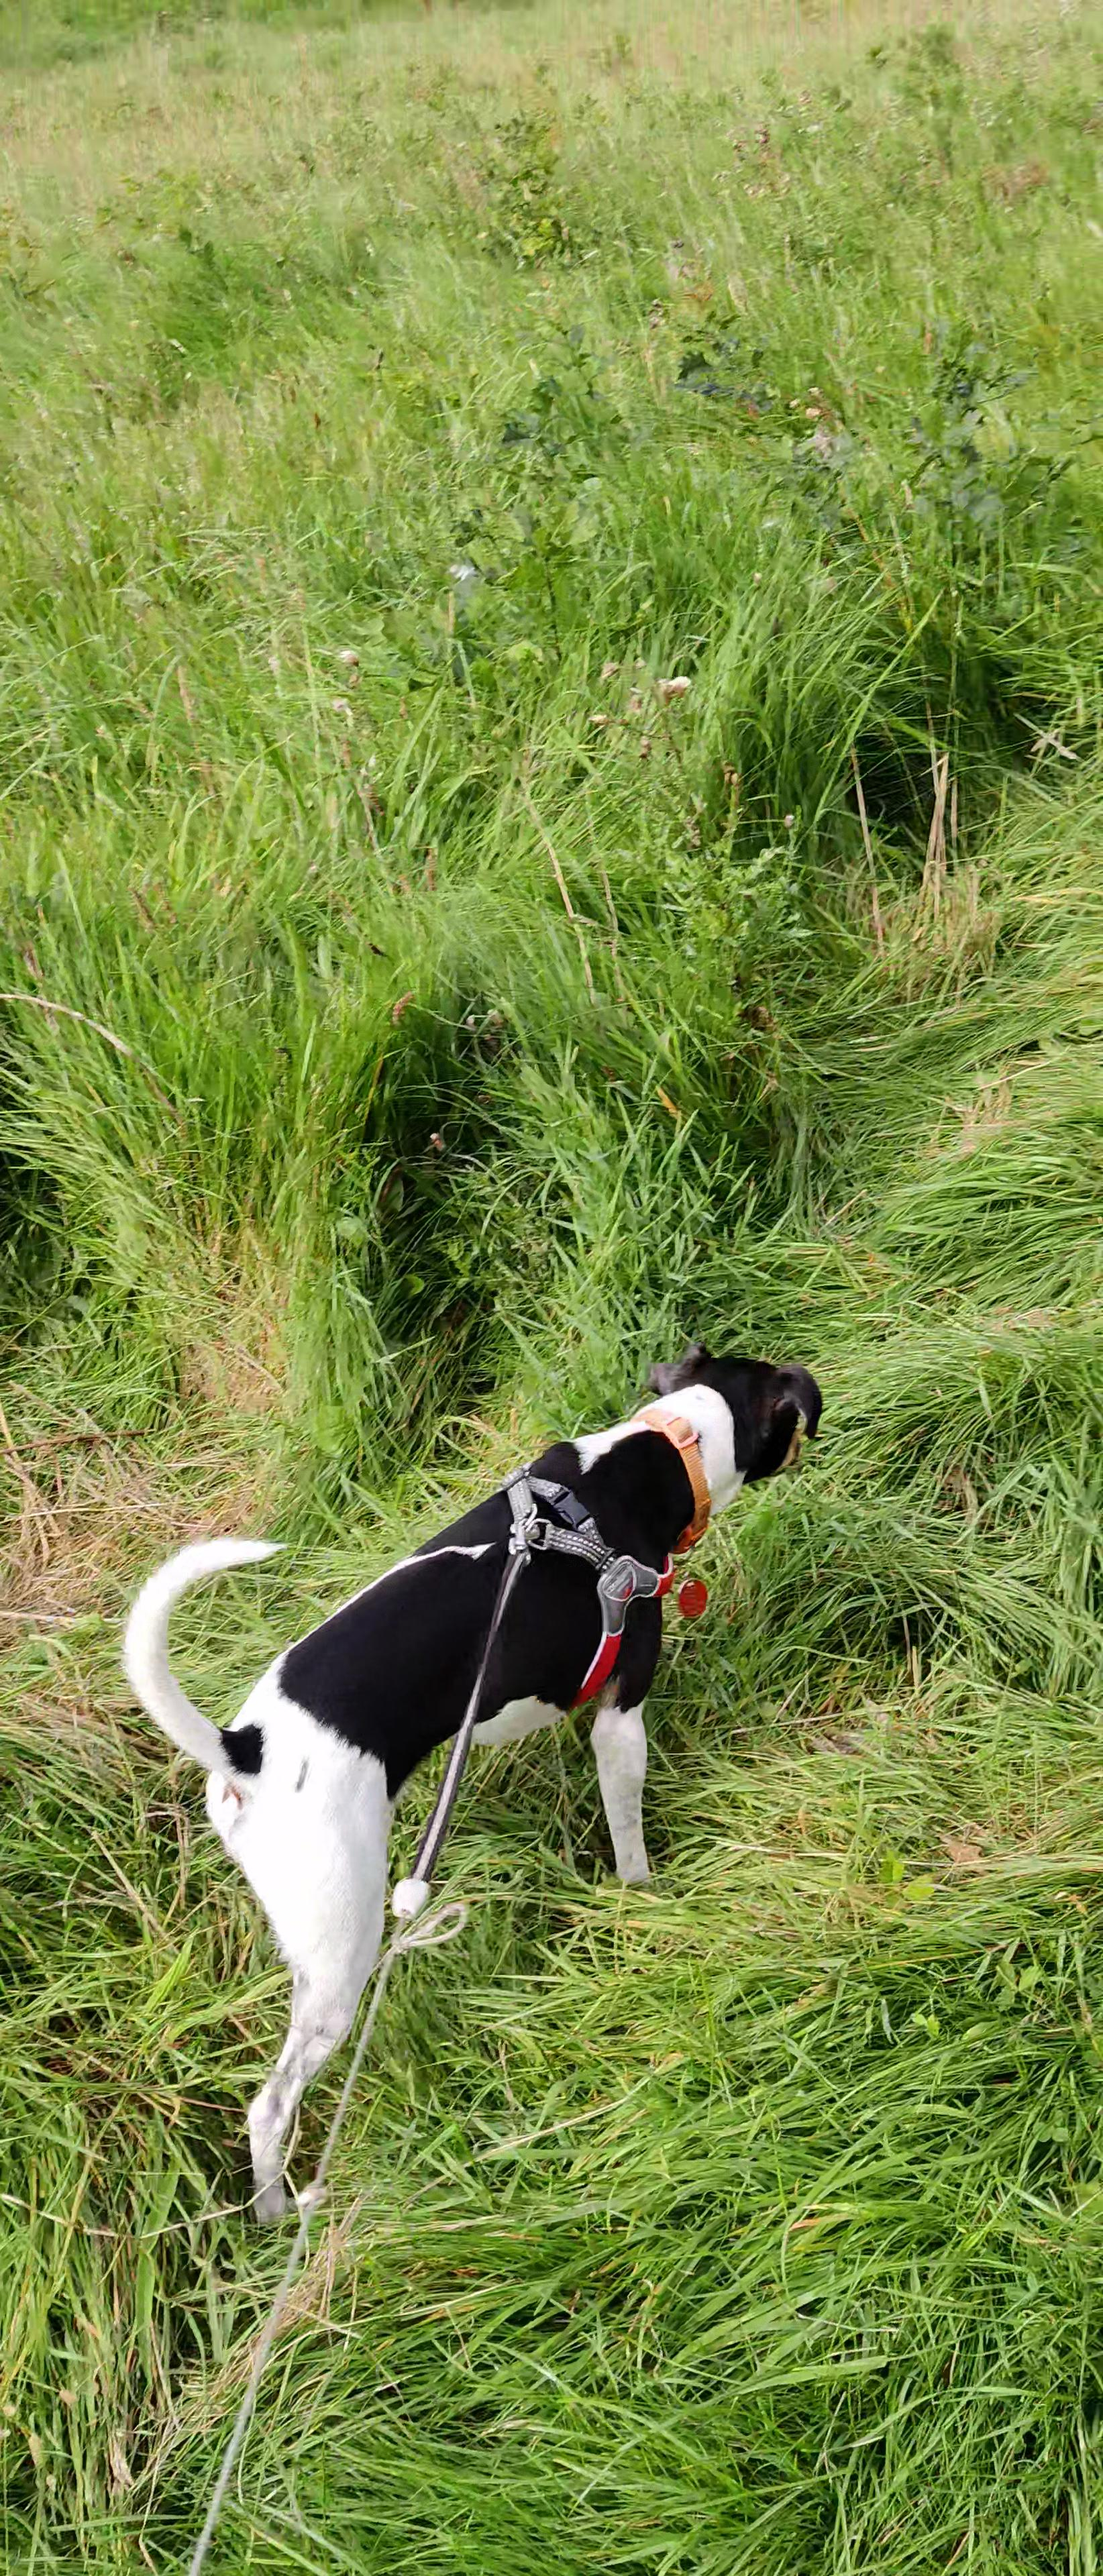Dog: (105, 1324, 876, 2221)
